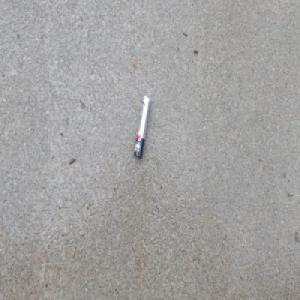Battery: (133, 94, 151, 161)
